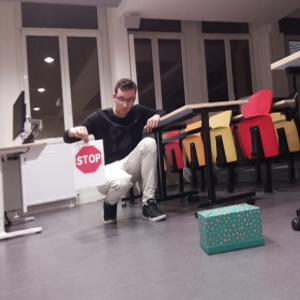small: (195, 203, 268, 256)
